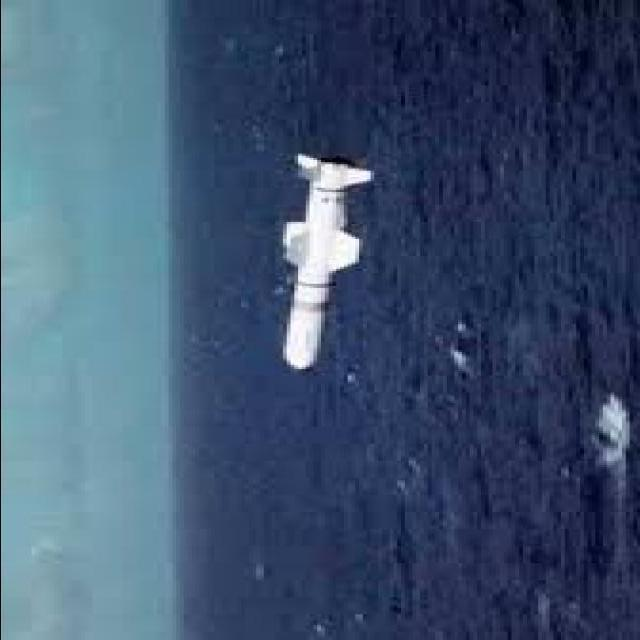missile: (275, 153, 375, 376)
